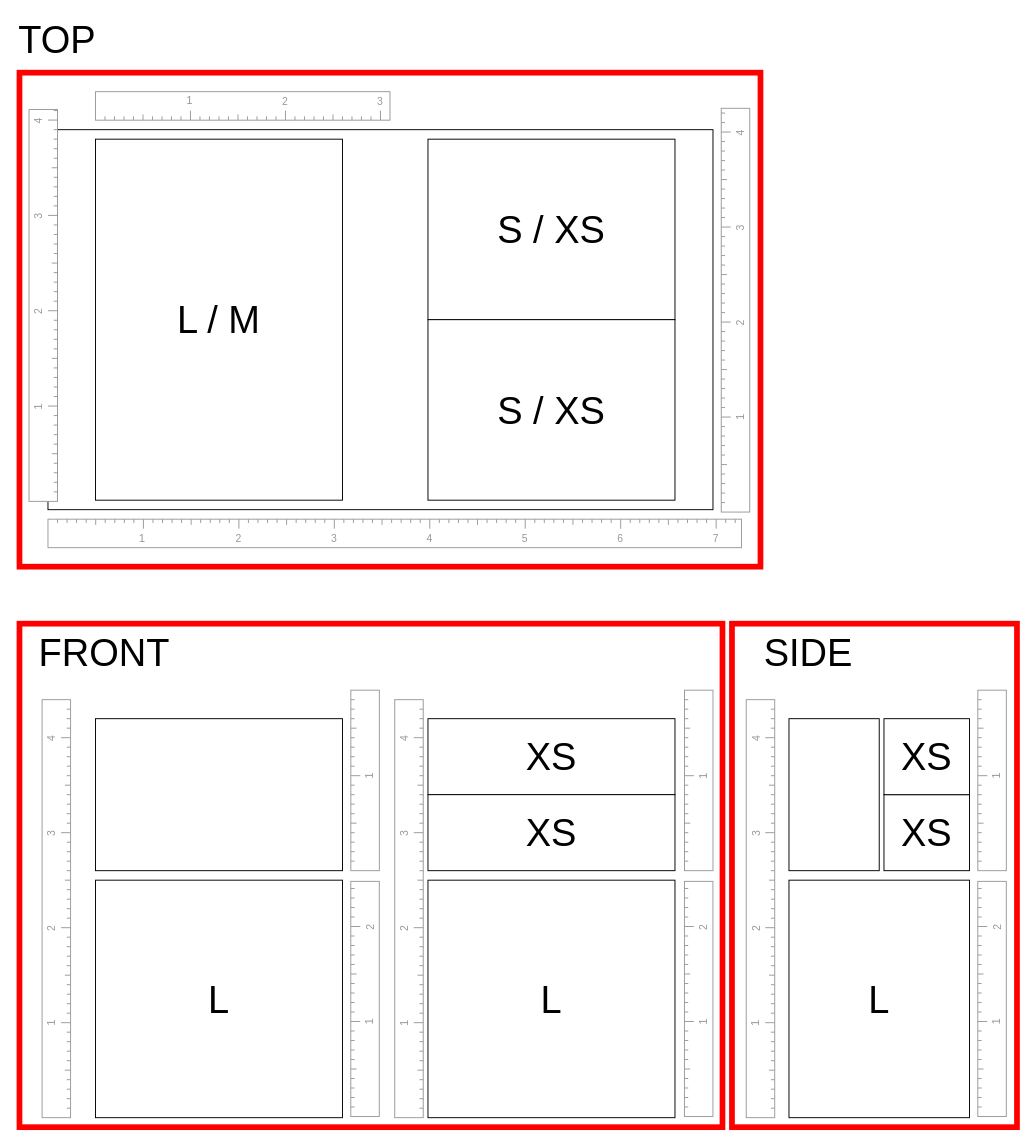
The diagram is 1036 pixels wide and 1146 high, and some of its shapes have lost their labels. Here are the shapes that lost their labels. From the top down, the box of each, then its label:
(95, 718, 342, 871): M / S
(788, 718, 879, 871): M/S
